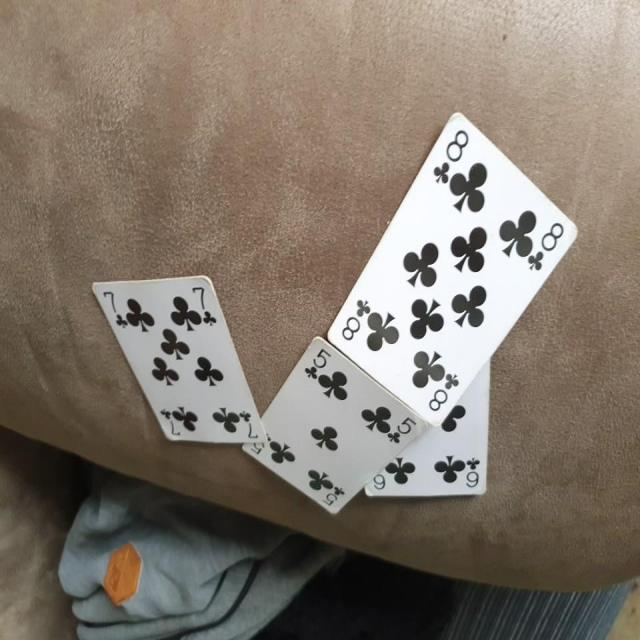5 Trefoils: (243, 334, 427, 521)
6 Trefoils: (362, 354, 490, 501)
7 Trefoils: (89, 274, 268, 444)
8 Trefoils: (327, 113, 580, 428)
